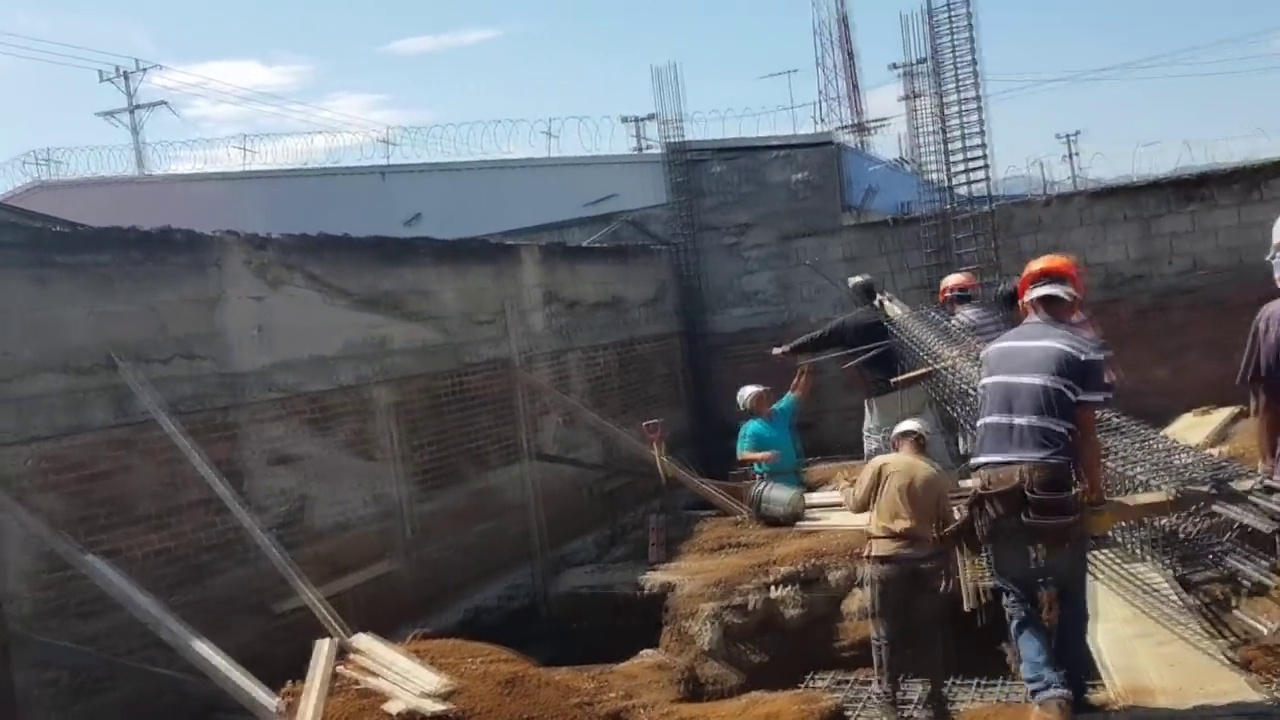helmet: (1014, 251, 1085, 307), (938, 271, 975, 301), (736, 383, 771, 412), (891, 420, 929, 445)
helmet-off: (850, 279, 884, 313)
helmet-on: (1014, 251, 1086, 332), (935, 270, 976, 315), (891, 420, 929, 459), (737, 383, 771, 422)
person: (962, 251, 1123, 703), (770, 278, 955, 469), (849, 418, 959, 720), (1236, 213, 1280, 487), (736, 363, 811, 488), (932, 270, 1006, 351)
